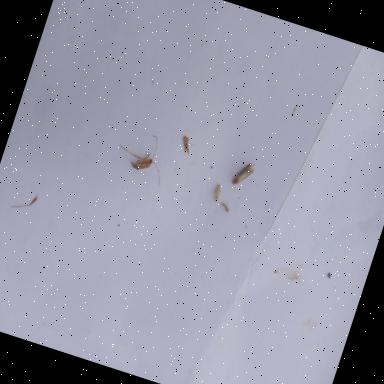pbw: (229, 157, 257, 191), (178, 134, 198, 156), (210, 183, 222, 204), (217, 202, 230, 213)
